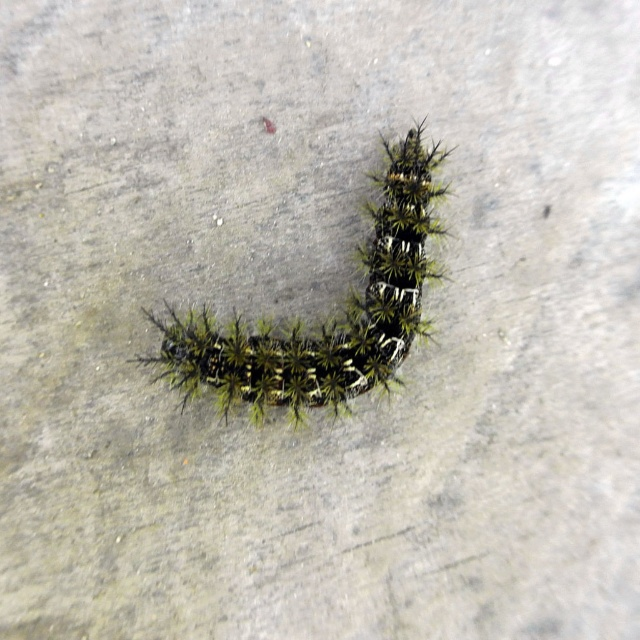Caterpillar: (120, 107, 461, 439)
